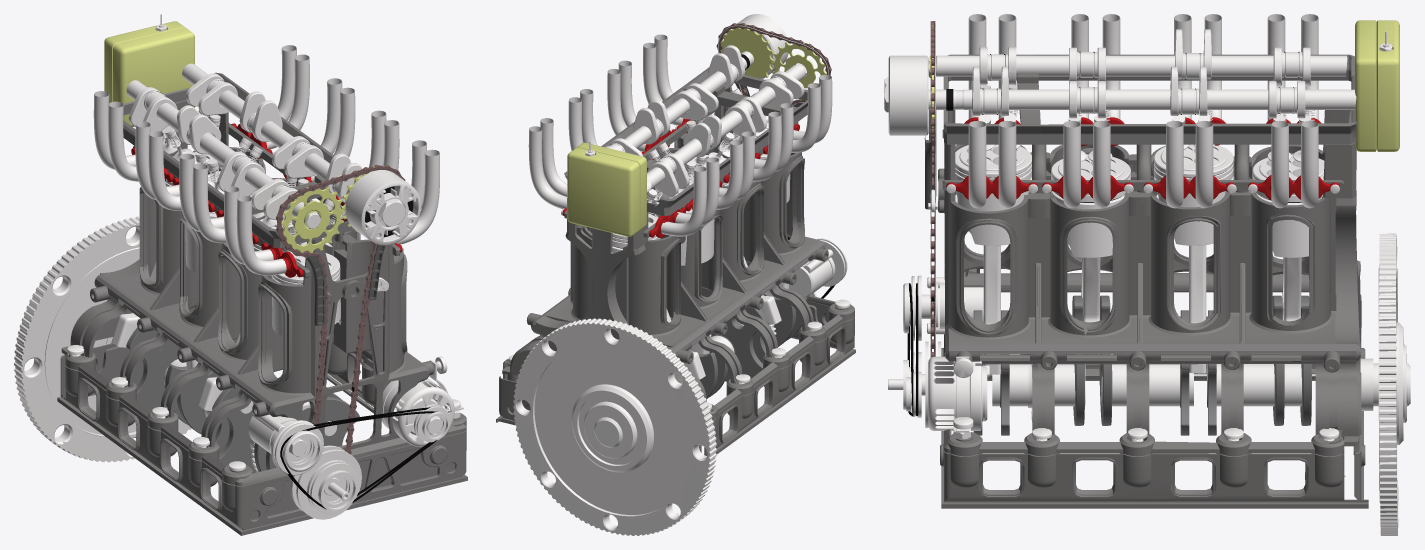
Rendered from engine-lab.glb.
3 views of the same model, side by side, from view 1: azimuth 30°, elevation 25°; view 2: azimuth 150°, elevation 25°; view 3: azimuth 270°, elevation 25° (orthographic). The views are drawn at different scales.
Visible parts, largest first — view 1: Frame.001_89, Frame.000_85, Schijf_153, Cube.013_67, Cylinder.003_70, Schakel1_151, Cube_55, Tandwiel.002_156, Cylinder.007_77, Circle.013_42, Circle.021_53, Cube.006_60 (+42 smaller); view 2: Schijf_153, Frame.001_89, Frame.000_85, Cube.013_67, Cube_55, Cube.006_60, Circle.007_36, Tandwiel.001_155, NurbsPath.036_142, NurbsPath.028_134, Cube.004_58, Cylinder.009_78 (+31 smaller); view 3: Frame.001_89, Frame.000_85, Cube_55, Circle.003_32, Schijf_153, Cube.013_67, Cube.004_58, Cube.006_60, Cylinder.003_70, Cylinder.007_77, Cylinder.002_69, Circle_29 (+44 smaller).
Boxes of the visible parts, x1,y1,x2,y2 form: Frame.001_89: (61,100,434,449); Frame.000_85: (57,340,467,535); Schijf_153: (14,216,191,462); Cube.013_67: (104,21,194,126); Cylinder.003_70: (345,170,420,245); Schakel1_151: (276,164,405,454); Cube_55: (122,72,354,248); Tandwiel.002_156: (281,185,344,252); Cylinder.007_77: (381,378,454,446); Circle.013_42: (126,327,179,411); Circle.021_53: (271,420,323,475); Cube.006_60: (126,80,317,216); Schijf_153: (513,318,716,535); Frame.001_89: (502,86,828,402); Frame.000_85: (496,287,855,455); Cube.013_67: (567,142,646,236); Cube_55: (564,67,807,215); Cube.006_60: (647,64,805,191); Circle.007_36: (711,307,768,381); Tandwiel.001_155: (720,24,774,78); NurbsPath.036_142: (661,166,706,236); NurbsPath.028_134: (528,126,567,209); Cube.004_58: (624,51,753,148); Cylinder.009_78: (788,249,835,298); Frame.001_89: (938,110,1361,446); Frame.000_85: (940,316,1368,508); Cube_55: (943,54,1356,144); Circle.003_32: (888,363,1410,406); Schijf_153: (1378,233,1406,535); Cube.013_67: (1355,20,1399,151); Cube.004_58: (928,89,1356,109); Cube.006_60: (936,55,1347,76); Cylinder.003_70: (888,55,928,135); Cylinder.007_77: (928,356,987,430); Cylinder.002_69: (1051,154,1130,257); Circle_29: (946,175,1339,199).
Size of the model in its own units: 8.87 by 14 by 13.18.
